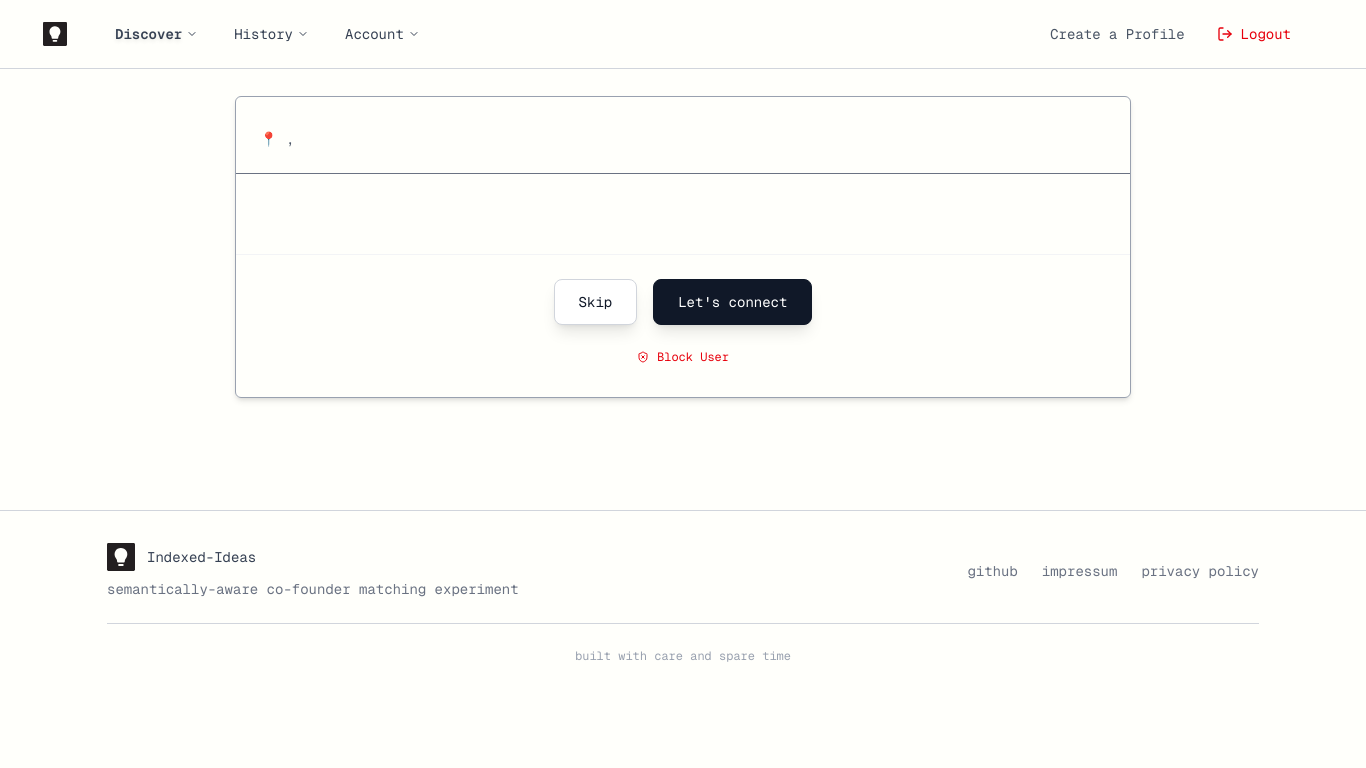
Test: MatchesPage Integration Tests › should show block confirmation dialog when block button is clicked
Click the button "Block User": (683, 357) left=621, top=341, right=745, bottom=373
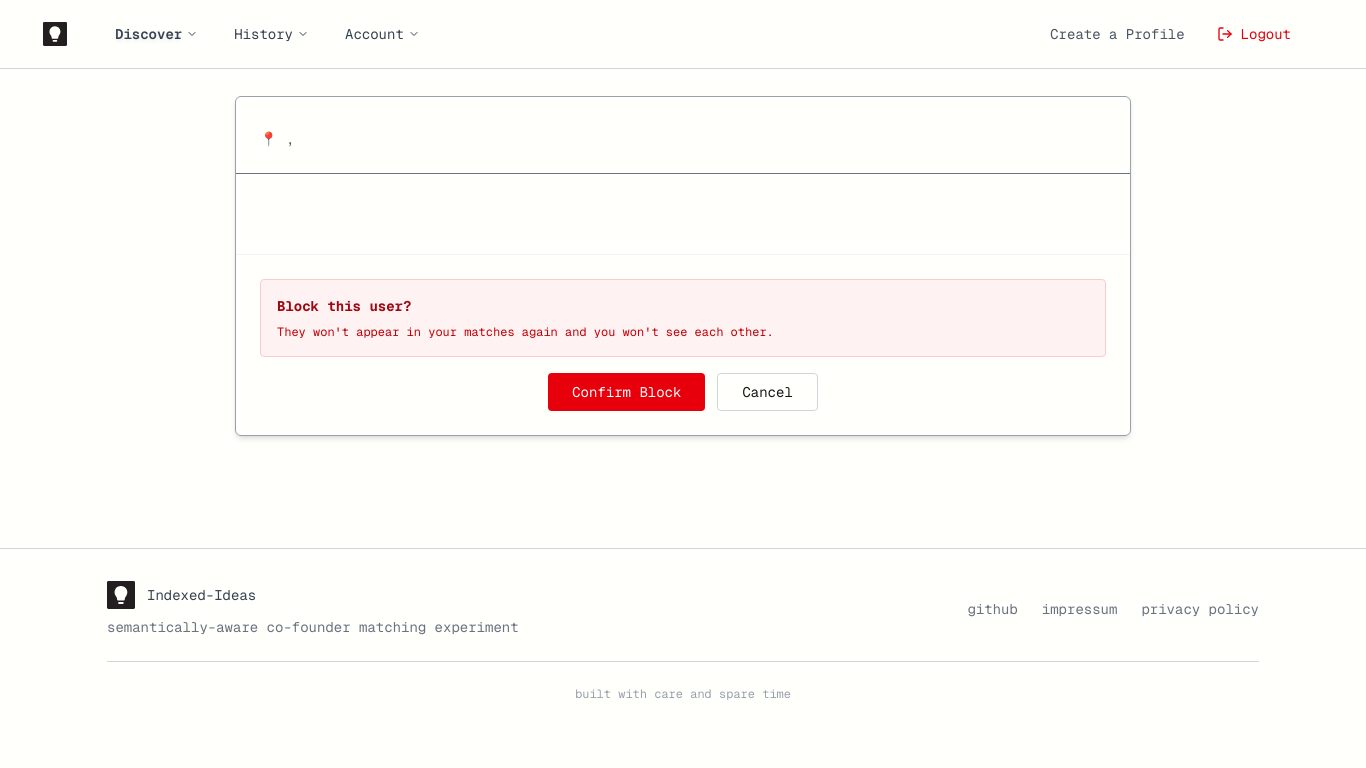
Expected: the text "Block this user?" is shown, left=277, top=297, right=411, bottom=315
Expected: the button "Confirm Block" is shown, left=548, top=373, right=705, bottom=411
Expected: the button "Cancel" is shown, left=717, top=373, right=818, bottom=411
